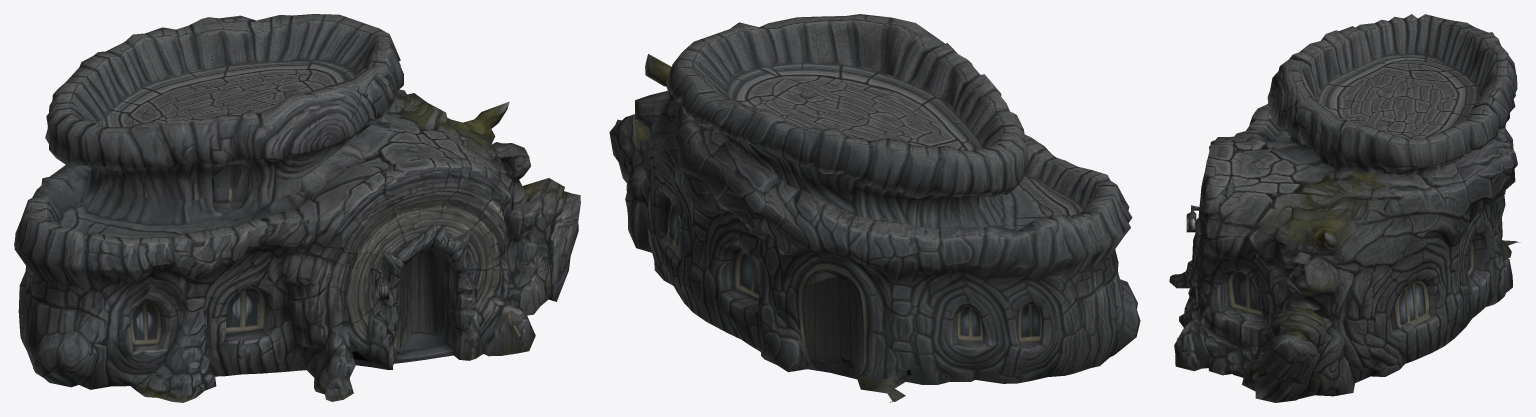
The model's file is Roduro_Great_5k.glb.
The picture shows the model from 3 angles, left to right: view 1: azimuth 30°, elevation 25°; view 2: azimuth 150°, elevation 25°; view 3: azimuth 270°, elevation 25°; orthographic projection. The views are drawn at different scales.
Parts seen in each view (by area): view 1: roduro_great_house_5k; view 2: roduro_great_house_5k; view 3: roduro_great_house_5k.
Part boxes in pixels (left/top/right/bottom): roduro_great_house_5k: left=14, top=14, right=580, bottom=402; roduro_great_house_5k: left=609, top=14, right=1140, bottom=402; roduro_great_house_5k: left=1169, top=14, right=1520, bottom=402.
Size of the model in its own units: 11.42 by 5.18 by 7.22.
Materials: 1 (1 with a texture image).
